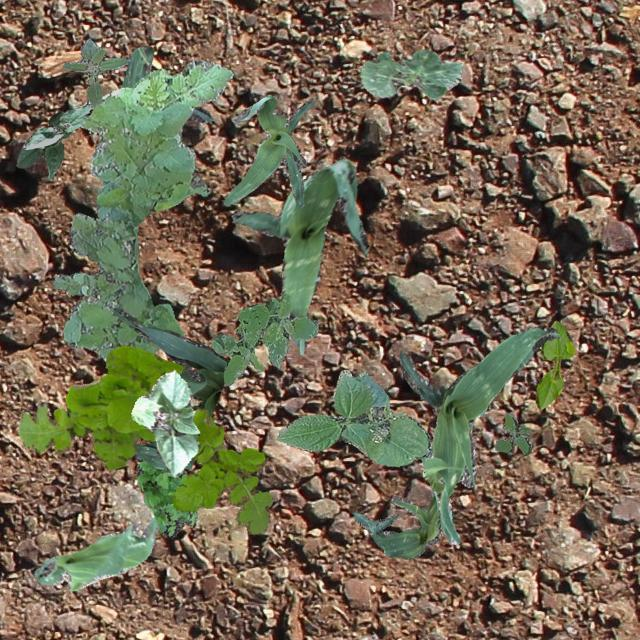crop: (398, 324, 558, 546), (232, 158, 368, 354), (111, 306, 228, 468), (276, 368, 430, 466), (222, 94, 314, 208), (34, 516, 158, 590), (352, 457, 442, 558), (130, 368, 200, 476), (120, 44, 210, 124), (358, 48, 462, 98), (15, 110, 69, 178), (534, 320, 574, 408), (22, 102, 92, 148)
weed: (52, 60, 232, 356), (17, 344, 218, 470), (172, 414, 272, 534), (210, 292, 318, 384), (136, 458, 197, 538), (62, 38, 128, 106), (494, 412, 530, 454)
